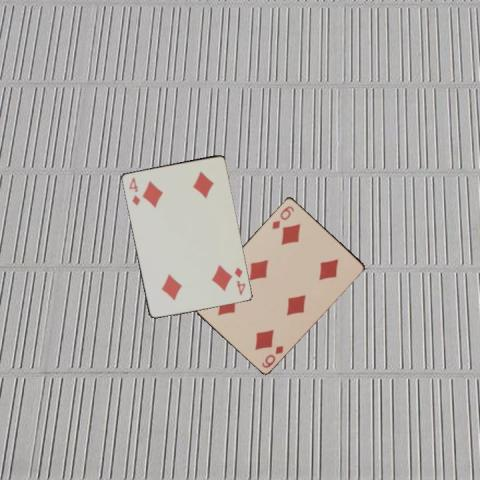4d: (126, 174, 142, 207), (231, 264, 247, 296)
6d: (269, 202, 295, 230), (258, 342, 284, 369)
